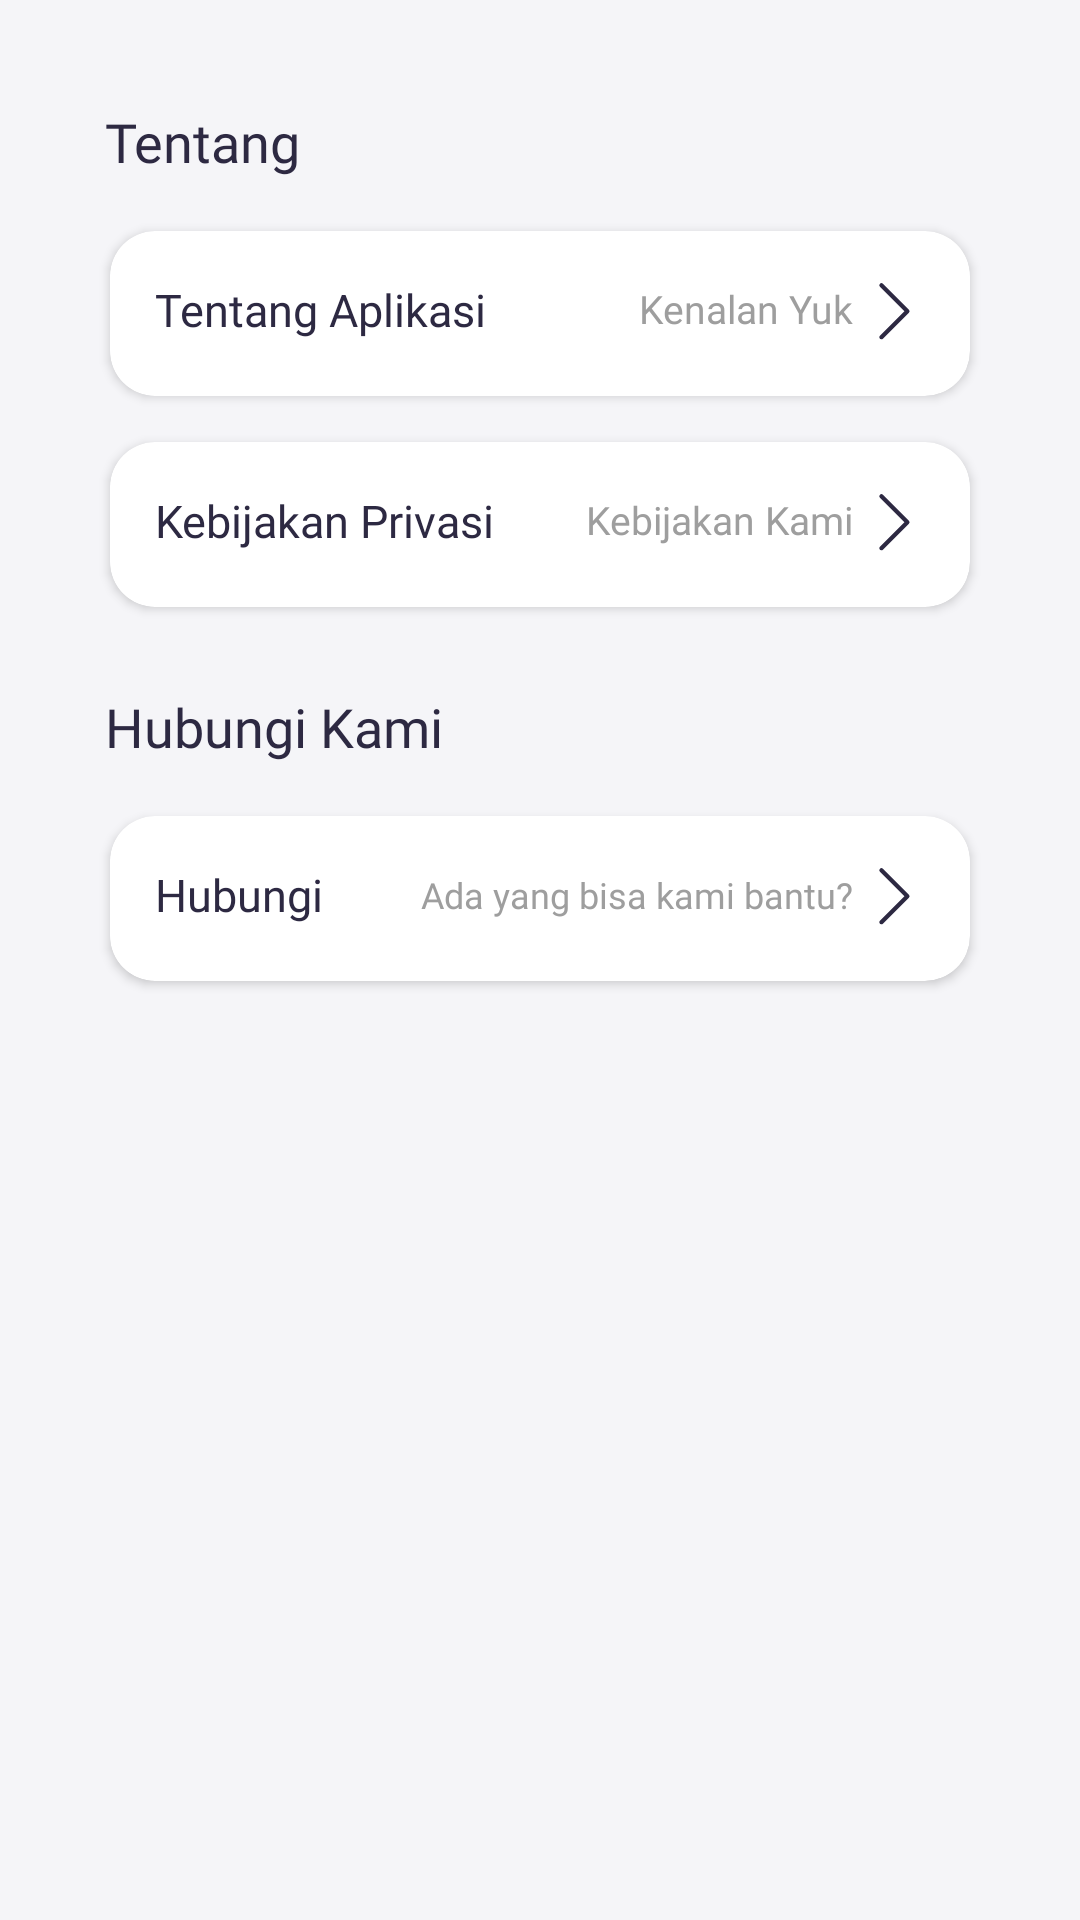

Where to tap for icons on this 1080*1920 app screen, as (x=x, y=y):
arrow: (x=894, y=311), (x=894, y=522), (x=894, y=896)
